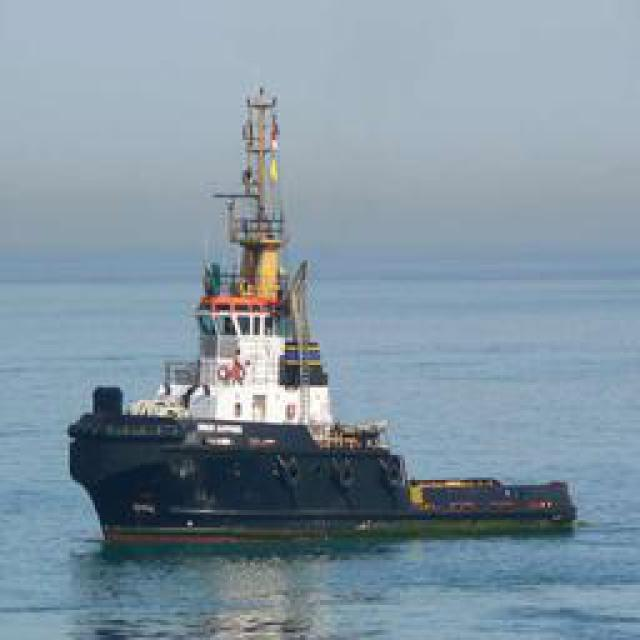Ship: (70, 77, 510, 535)
